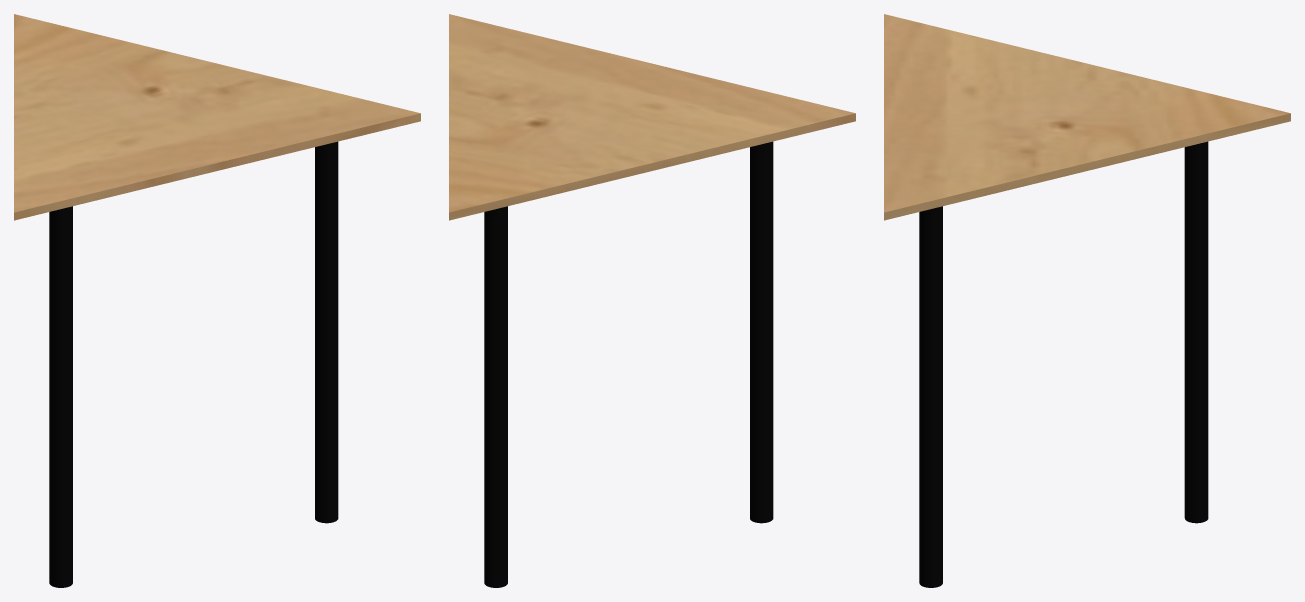
The model's file is triangle_new2.fbx.
3 renders of one model, left to right at view 1: azimuth 30°, elevation 25°; view 2: azimuth 150°, elevation 25°; view 3: azimuth 270°, elevation 25°, orthographic.
Parts seen in each view (by area): view 1: 円柱, leg2, leg3; view 2: 円柱, leg3, leg1; view 3: 円柱, leg1, leg2.
Part boxes in pixels (x1,y1,x2,y2): 円柱: (14, 14, 420, 220); leg2: (315, 141, 338, 523); leg3: (49, 206, 72, 587); 円柱: (449, 14, 855, 220); leg3: (750, 141, 773, 523); leg1: (484, 206, 507, 587); 円柱: (884, 14, 1290, 220); leg1: (1184, 141, 1208, 523); leg2: (919, 206, 942, 587).
Bounding box in the file's own units: 797 × 758 × 690.
